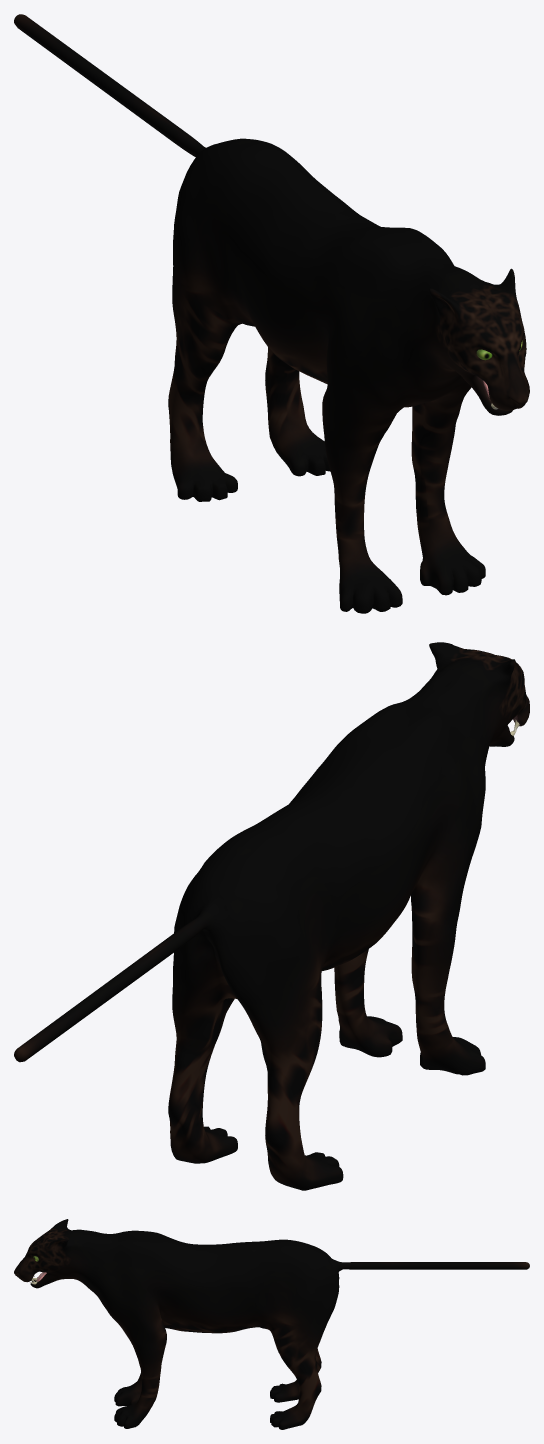
The model's file is Panther.obj.
3 renders of one model, top to bottom at view 1: azimuth 30°, elevation 25°; view 2: azimuth 150°, elevation 25°; view 3: azimuth 270°, elevation 25°, orthographic. The views are drawn at different scales.
Visible parts, largest first — view 1: Body; view 2: Body; view 3: Body.
Part boxes in pixels (x1=…): Body: x1=14, y1=14, x2=529, y2=613; Body: x1=14, y1=642, x2=529, y2=1190; Body: x1=14, y1=1219, x2=529, y2=1429.
Size of the model in its own units: 0.5166 by 1.08 by 2.76.
